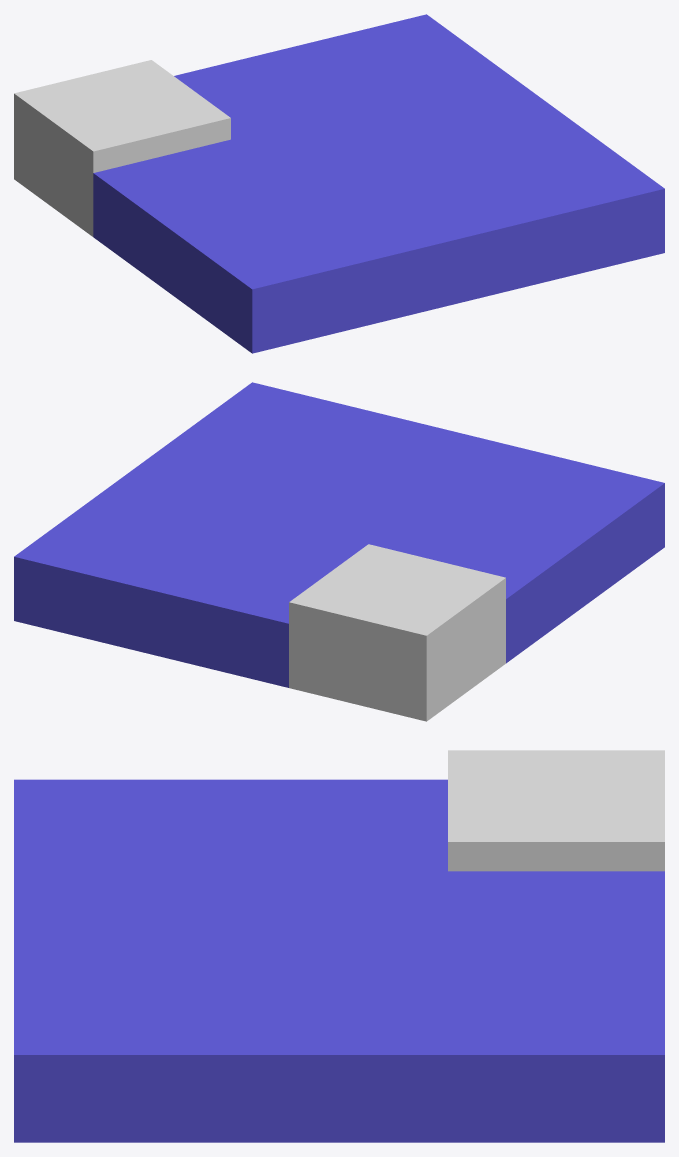
The model's file is Lake corner.fbx.
3 renders of one model, top to bottom at view 1: azimuth 30°, elevation 25°; view 2: azimuth 150°, elevation 25°; view 3: azimuth 270°, elevation 25°, orthographic. The views are drawn at different scales.
Parts seen in each view (by area): view 1: Lake corner; view 2: Lake corner; view 3: Lake corner.
Part boxes in pixels (x1,y1,x2,y2): Lake corner: [14, 14, 664, 353]; Lake corner: [14, 382, 664, 721]; Lake corner: [14, 750, 664, 1142].
Size of the model in its own units: 200 by 200 by 39.76.
